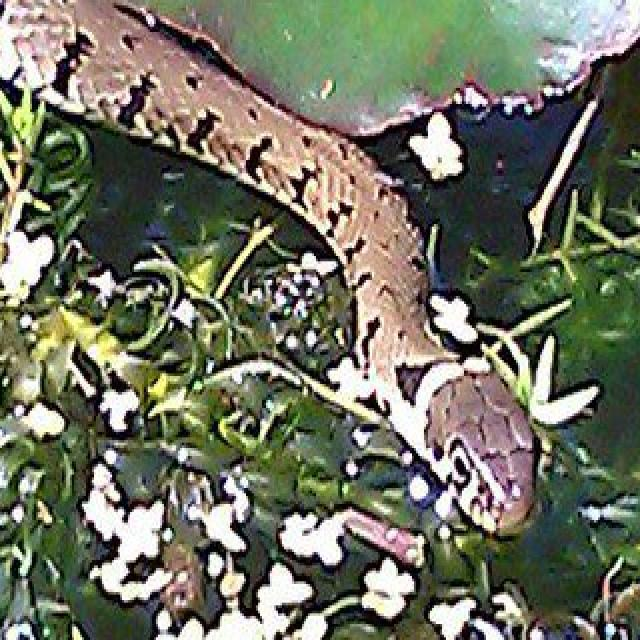snake: (0, 0, 544, 541)
